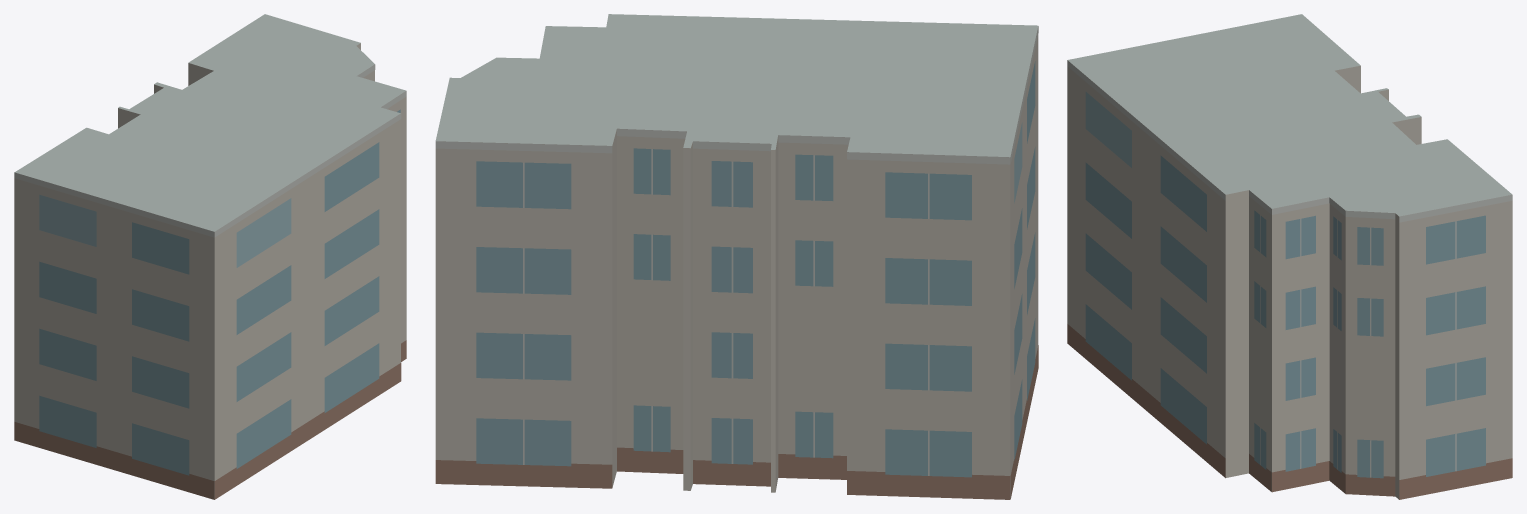
File: survey-upis-32863033.glb
3 renders of one model, left to right at view 1: azimuth 30°, elevation 25°; view 2: azimuth 150°, elevation 25°; view 3: azimuth 270°, elevation 25°, orthographic. The views are drawn at different scales.
Visible parts, largest first — view 1: survey-upis-32863033.tmp; view 2: survey-upis-32863033.tmp; view 3: survey-upis-32863033.tmp.
Part boxes in pixels (left/top/right/bottom): survey-upis-32863033.tmp: left=14, top=14, right=406, bottom=499; survey-upis-32863033.tmp: left=435, top=14, right=1038, bottom=499; survey-upis-32863033.tmp: left=1067, top=14, right=1512, bottom=499.
Bounding box in the file's own units: 17.33 × 11.3 × 16.1.
